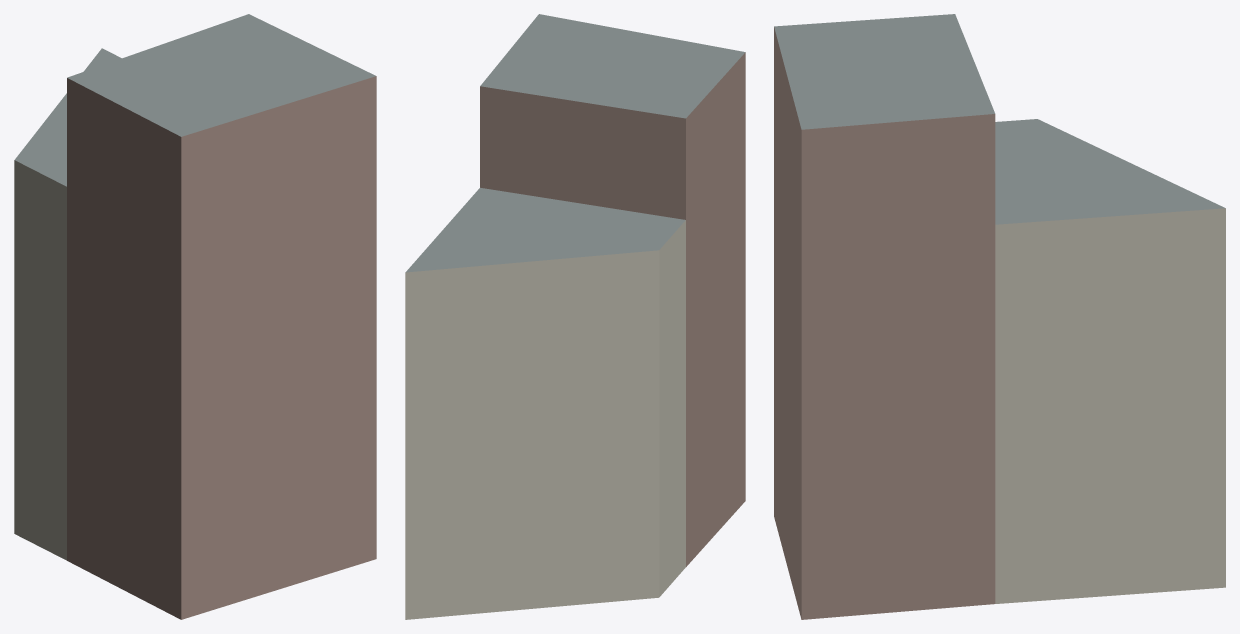
3 renders of one model, left to right at view 1: azimuth 30°, elevation 25°; view 2: azimuth 150°, elevation 25°; view 3: azimuth 270°, elevation 25°, orthographic. The views are drawn at different scales.
Parts seen in each view (by area): view 1: C8; view 2: C8; view 3: C8.
Boxes of the visible parts, x1=… form: C8: x1=14, y1=14, x2=376, y2=619; C8: x1=405, y1=14, x2=745, y2=619; C8: x1=774, y1=14, x2=1225, y2=619.
Size of the model in its own units: 22.22 by 41.74 by 34.88.
